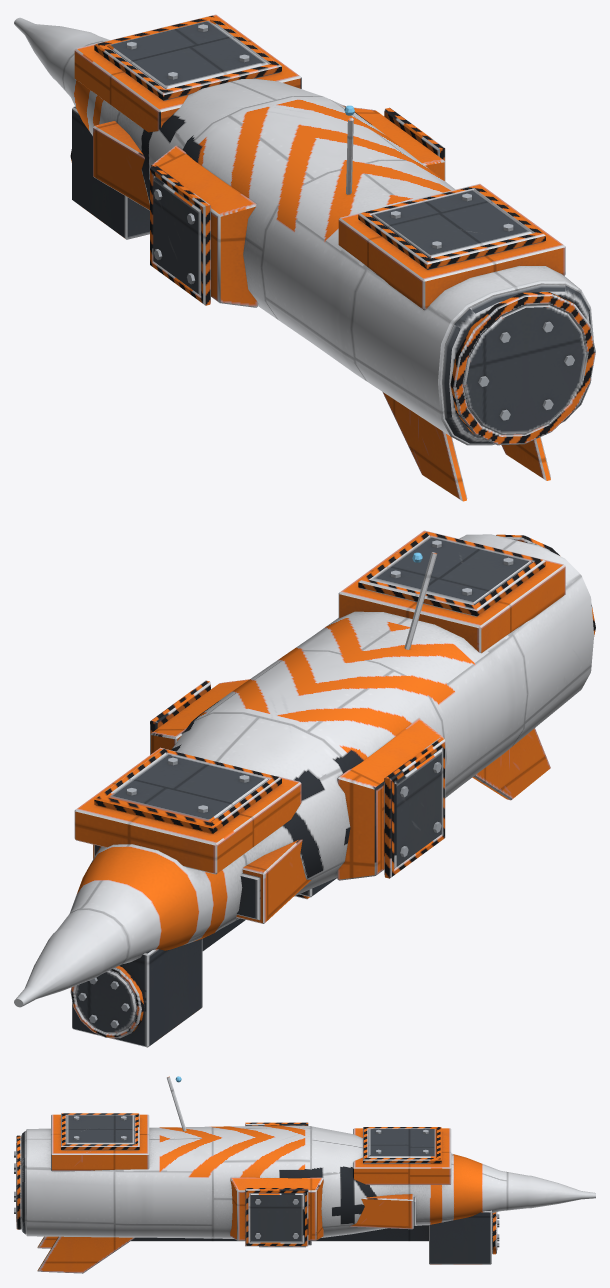
The model's file is casco_caza_t2.fbx.
3 renders of one model, top to bottom at view 1: azimuth 30°, elevation 25°; view 2: azimuth 150°, elevation 25°; view 3: azimuth 270°, elevation 25°, orthographic. The views are drawn at different scales.
Parts seen in each view (by area): view 1: casco_caza_t2; view 2: casco_caza_t2; view 3: casco_caza_t2.
Boxes of the visible parts, <box> form: casco_caza_t2: <box>14,14,595,501</box>; casco_caza_t2: <box>14,530,595,1047</box>; casco_caza_t2: <box>14,1076,595,1273</box>.
Bounding box in the file's own units: 4.19 × 4.92 × 14.81.
